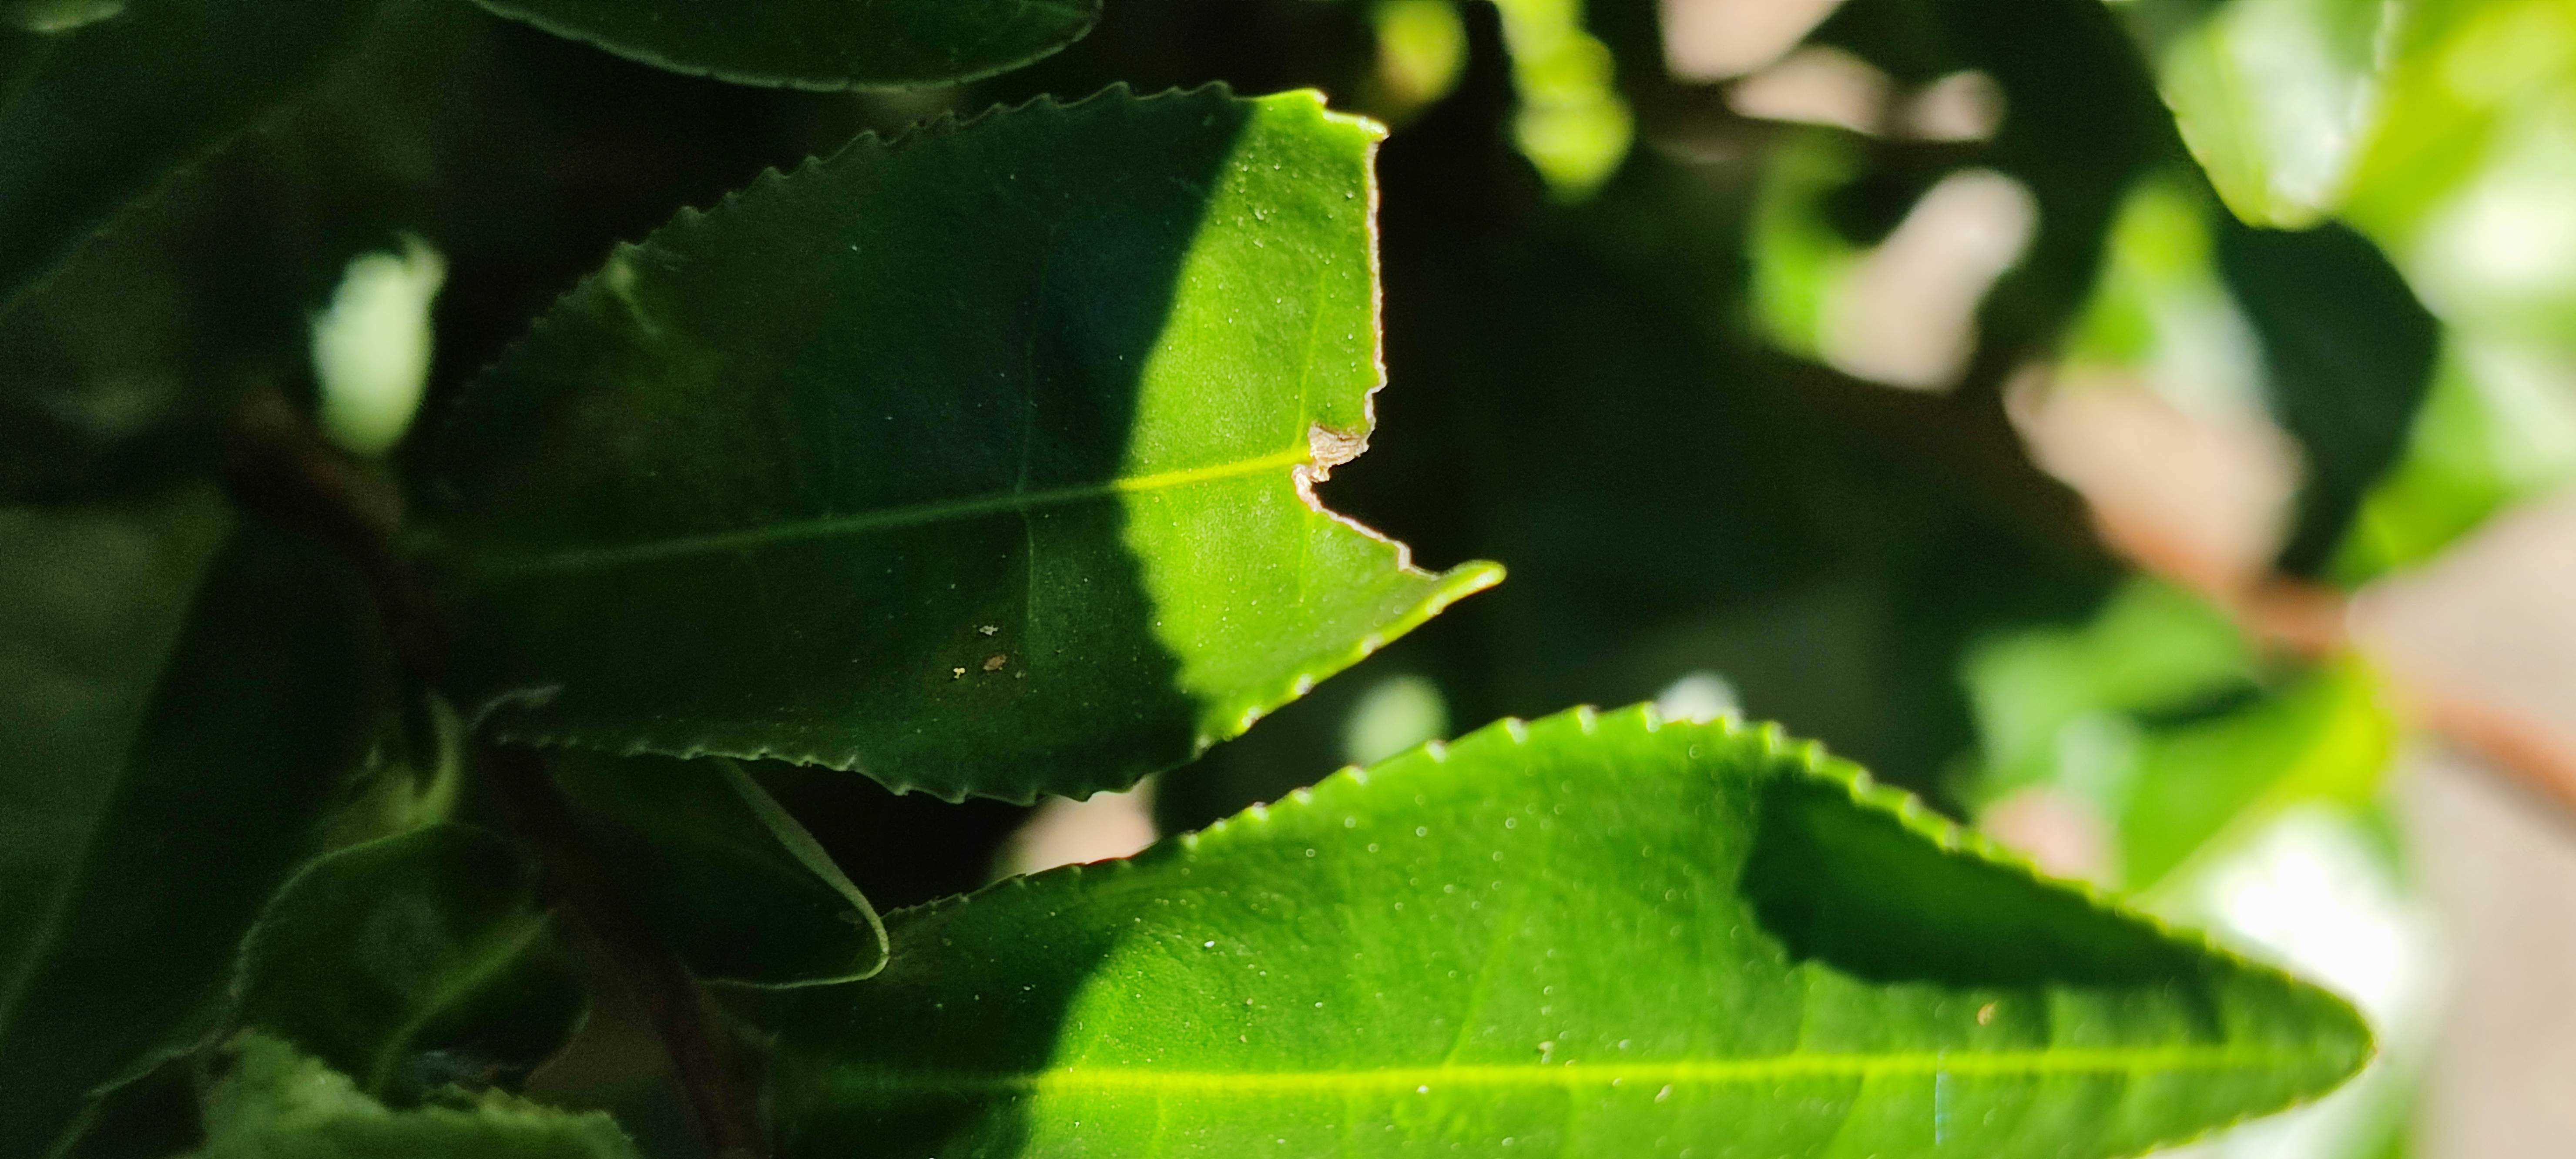chihuo_high: (393, 71, 1518, 811)
healthy: (766, 693, 2382, 1157)
